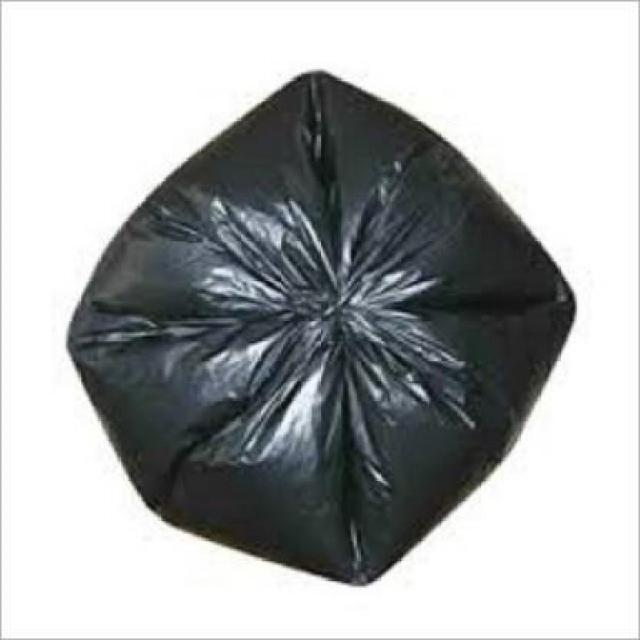garbage: (34, 65, 602, 595)
